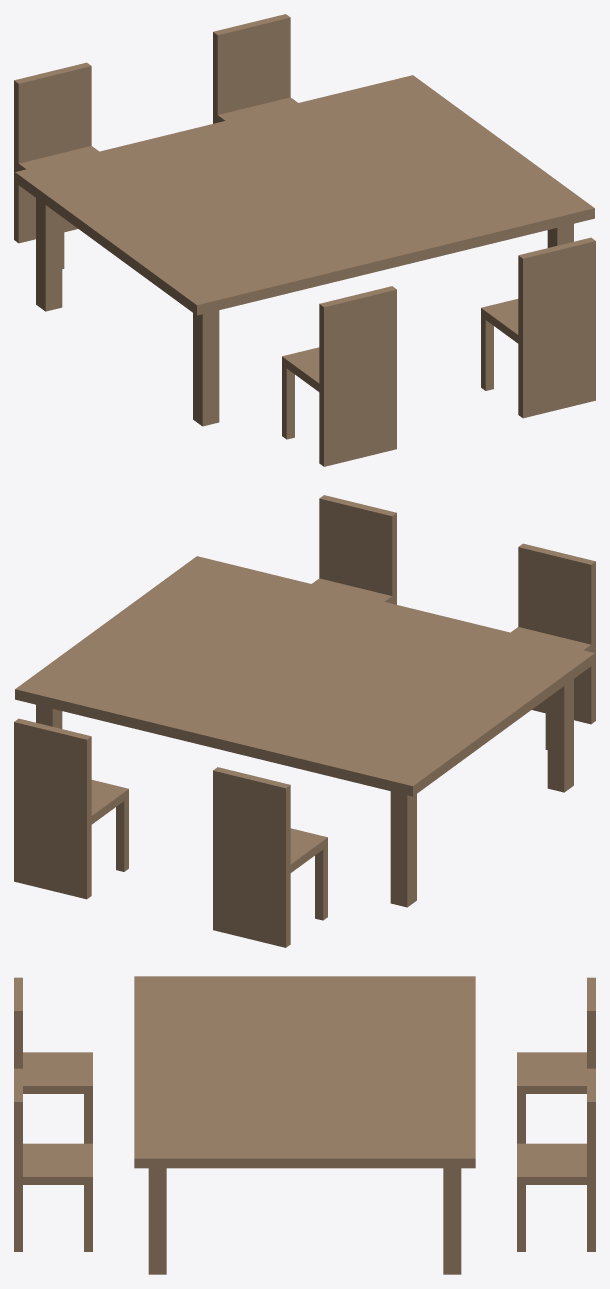
Rendered from DiningSet.fbx.
3 renders of one model, top to bottom at view 1: azimuth 30°, elevation 25°; view 2: azimuth 150°, elevation 25°; view 3: azimuth 270°, elevation 25°, orthographic. The views are drawn at different scales.
Visible parts, largest first — view 1: K_table_top, K_ch2_b, K_ch1_b, K_ch3_b, K_ch4_b, K_table_lg0, K_table_lg2, K_ch1_seat, K_ch2_seat, K_ch2_l0, K_ch1_l0, K_ch1_l2 (+6 smaller); view 2: K_table_top, K_ch4_b, K_ch3_b, K_ch1_b, K_ch2_b, K_table_lg2, K_table_lg0, K_ch3_seat, K_ch4_seat, K_ch3_l2, K_ch4_l2, K_ch3_l0 (+6 smaller); view 3: K_table_top, K_ch2_seat, K_ch4_seat, K_ch1_seat, K_ch3_seat, K_table_lg1, K_table_lg3, K_ch4_b, K_ch2_b, K_ch1_b, K_ch3_b, K_ch2_l3 (+5 smaller).
Part boxes in pixels (x1,y1,x2,y2): K_table_top: (15,75,594,315); K_ch2_b: (518,237,595,417); K_ch1_b: (319,286,396,466); K_ch3_b: (14,62,91,243); K_ch4_b: (213,14,290,122); K_table_lg0: (193,310,219,426); K_table_lg2: (36,198,62,311); K_ch1_seat: (282,347,396,395); K_ch2_seat: (481,299,595,346); K_ch2_l0: (518,344,531,418); K_ch1_l0: (319,392,332,466); K_ch1_l2: (282,365,294,439); K_table_top: (15,556,594,796); K_ch4_b: (14,718,91,898); K_ch3_b: (213,767,290,947); K_ch1_b: (518,543,595,723); K_ch2_b: (319,495,396,603); K_table_lg2: (390,791,416,907); K_table_lg0: (547,679,573,792); K_ch3_seat: (213,828,327,876); K_ch4_seat: (14,780,128,827); K_ch3_l2: (277,873,290,947); K_ch4_l2: (78,825,91,899); K_ch3_l0: (315,846,327,920); K_table_top: (134,976,475,1168); K_ch2_seat: (14,1143,92,1184); K_ch4_seat: (517,1143,595,1184); K_ch1_seat: (23,1052,92,1093); K_ch3_seat: (517,1052,586,1093); K_table_lg1: (148,1168,166,1274); K_table_lg3: (443,1168,461,1274); K_ch4_b: (587,1068,595,1251); K_ch2_b: (14,1068,22,1251); K_ch1_b: (14,977,22,1068); K_ch3_b: (587,977,595,1068); K_ch2_l3: (84,1185,92,1251).
Bounding box in the file's own units: 2.4 × 0.92 × 3.24.
